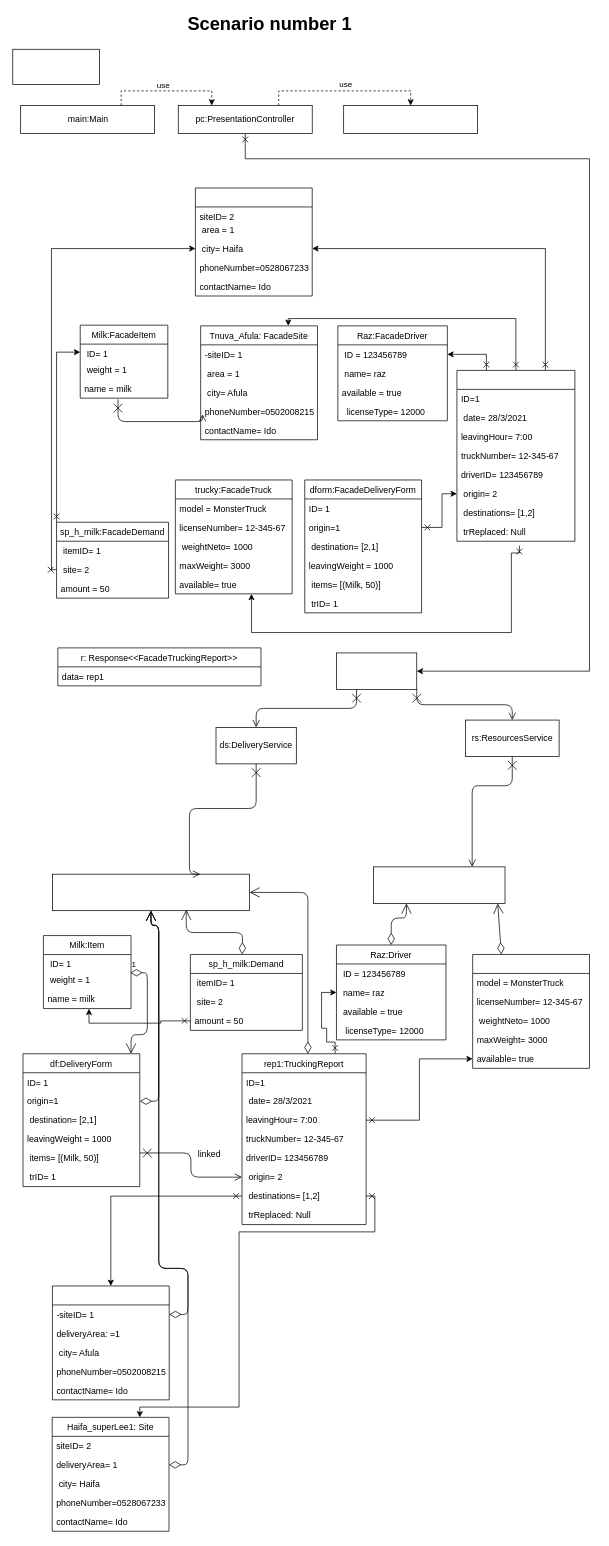
Some shapes in this 609 by 1546 pixel diagram are drawn without their labels. Each missing label, with the box of its shape:
dc : DeliveryController: (52, 873, 250, 911)
fs:FacadeService: (336, 652, 417, 689)
Haifa_superLee1: FacadeSite: (195, 187, 312, 296)
mp: MenuPrinter: (343, 105, 478, 134)
rc: ResourcesController: (373, 866, 505, 903)
rep1:FacadeTruckingReport: (456, 370, 575, 541)
StringConverter: (12, 49, 99, 84)
Tnuva_Afula: Site: (52, 1285, 169, 1400)
trucky:Truck: (472, 954, 589, 1068)
